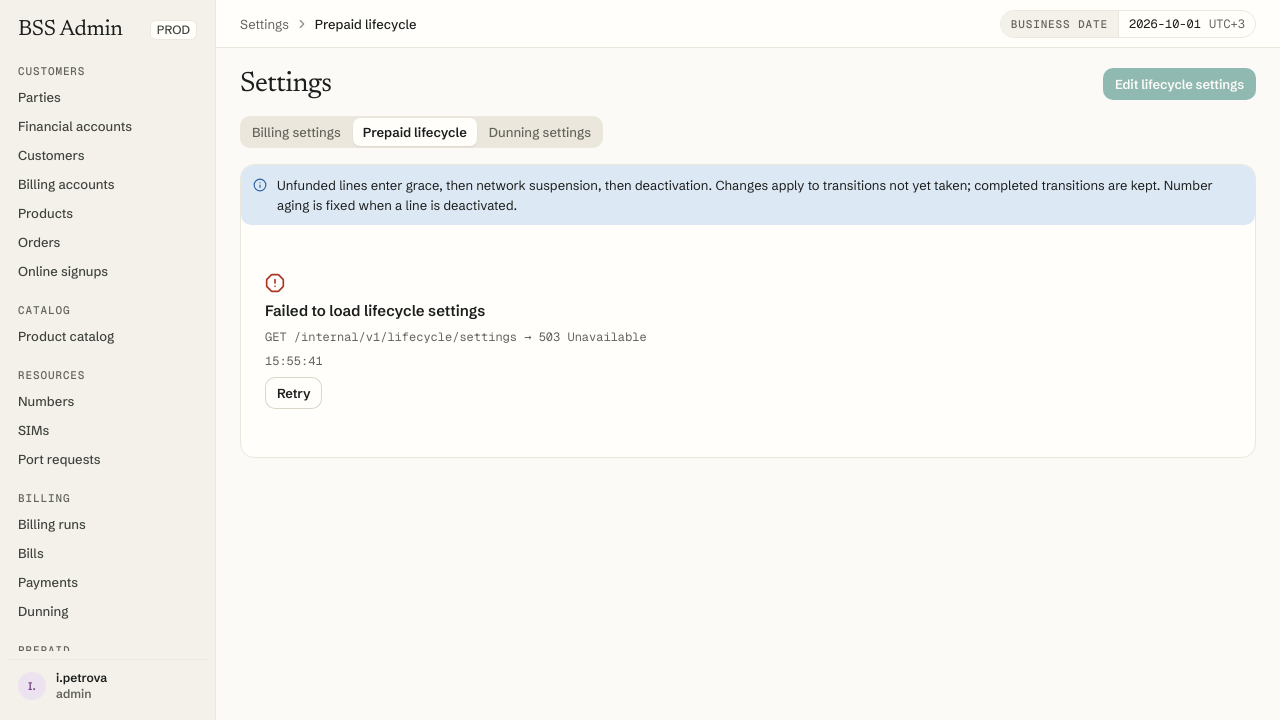
it: prepaid lifecycle › retries a failed lifecycle read
This screenshot has width=1280, height=720.
Expected: the heading "Settings" is shown, [240,68,332,100]
Expected: the text "Failed to load lifecycle settings" is shown, [265,301,485,321]
Click the button "Retry": (294, 393) [265,377,322,409]
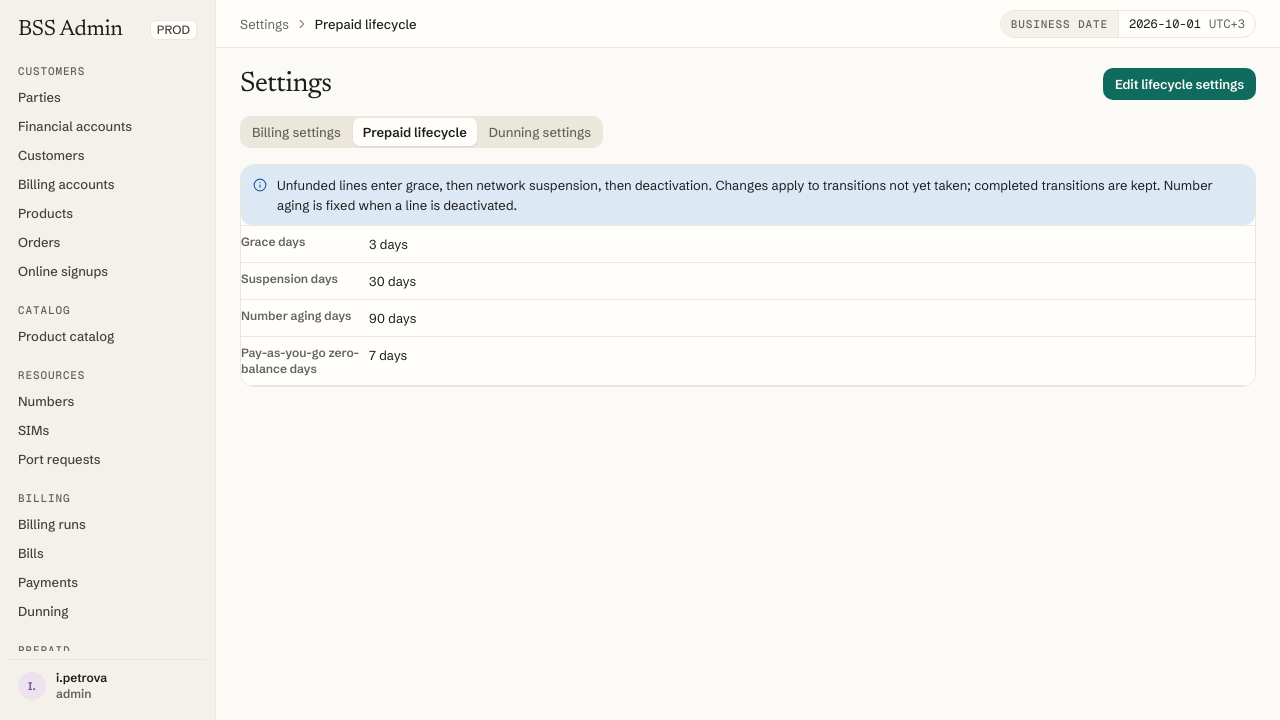
Now the text "90 days" is shown, box [369,300,1255,337]
